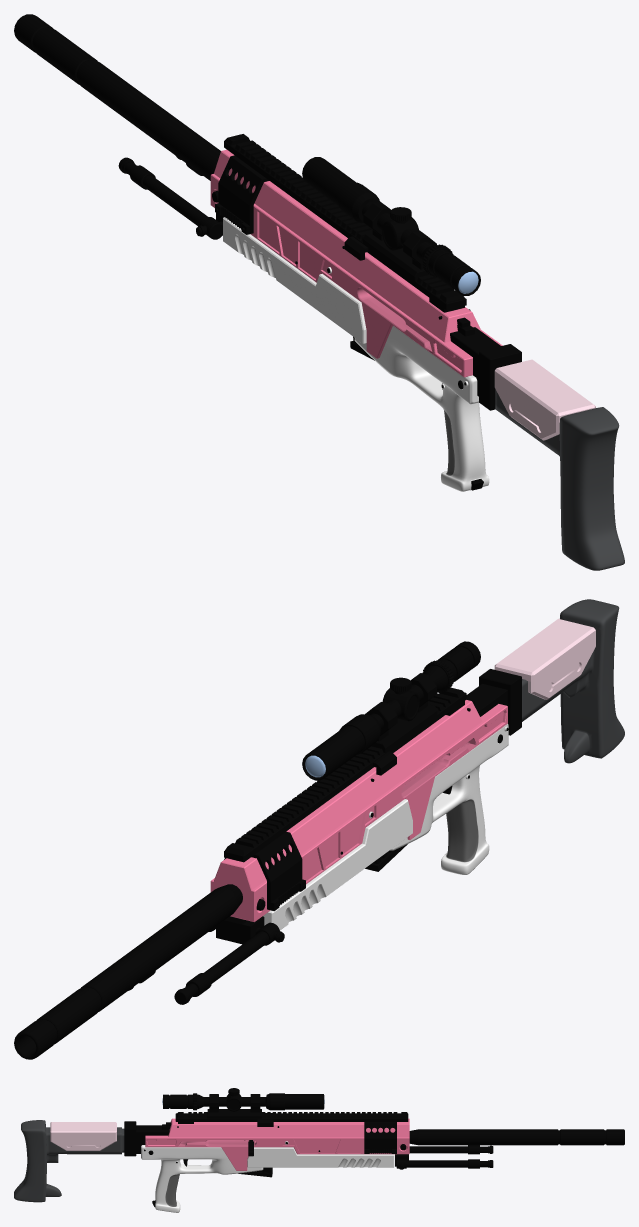
Rendered from SRAlice.fbx.
The picture shows the model from 3 angles, top to bottom: view 1: azimuth 30°, elevation 25°; view 2: azimuth 150°, elevation 25°; view 3: azimuth 270°, elevation 25°; orthographic projection. The views are drawn at different scales.
Visible parts, largest first — view 1: Body, Stock, Barrel, Scope, Grip, Mount, Stand; view 2: Body, Stock, Barrel, Scope, Grip, Mount, Stand; view 3: Body, Stock, Barrel, Scope, Grip, Mount, Stand, Magazine.
Part boxes in pixels (x1=…): Body: x1=210, y1=149, x2=502, y2=377; Stock: x1=450, y1=317, x2=624, y2=570; Barrel: x1=14, y1=14, x2=220, y2=180; Scope: x1=302, y1=157, x2=480, y2=295; Grip: x1=354, y1=325, x2=489, y2=491; Mount: x1=224, y1=134, x2=466, y2=312; Stand: x1=118, y1=155, x2=224, y2=239; Body: x1=210, y1=700, x2=507, y2=930; Stock: x1=466, y1=599, x2=624, y2=763; Barrel: x1=14, y1=884, x2=242, y2=1059; Scope: x1=302, y1=641, x2=480, y2=780; Grip: x1=390, y1=724, x2=508, y2=874; Mount: x1=224, y1=687, x2=466, y2=862; Stand: x1=128, y1=916, x2=284, y2=1004; Body: x1=145, y1=1118, x2=409, y2=1170; Stock: x1=14, y1=1120, x2=171, y2=1202; Barrel: x1=409, y1=1129, x2=624, y2=1145; Scope: x1=162, y1=1088, x2=324, y2=1118; Grip: x1=141, y1=1145, x2=263, y2=1212; Mount: x1=175, y1=1112, x2=408, y2=1126; Stand: x1=395, y1=1145, x2=493, y2=1169; Magazine: x1=238, y1=1167, x2=272, y2=1177.
Size of the model in its own units: 30.78 by 61.63 by 286.
